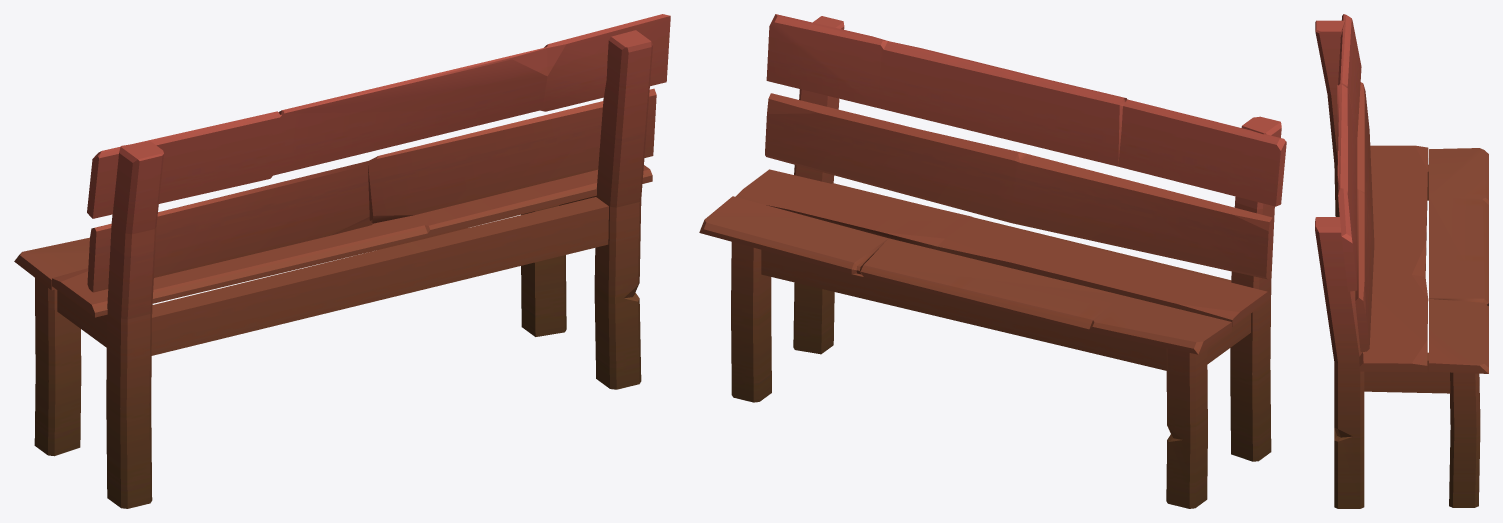
3 views of the same model, side by side, from view 1: azimuth 30°, elevation 25°; view 2: azimuth 150°, elevation 25°; view 3: azimuth 270°, elevation 25° (orthographic). The views are drawn at different scales.
Visible parts, largest first — view 1: Bench1; view 2: Bench1; view 3: Bench1.
Boxes of the visible parts, box(x1,y1,x2,y2) form: Bench1: box(14, 14, 670, 508); Bench1: box(699, 14, 1286, 508); Bench1: box(1315, 14, 1488, 508).
Size of the model in its own units: 1.9 by 1.14 by 0.6275.
Materials: 1 (1 with a texture image).
